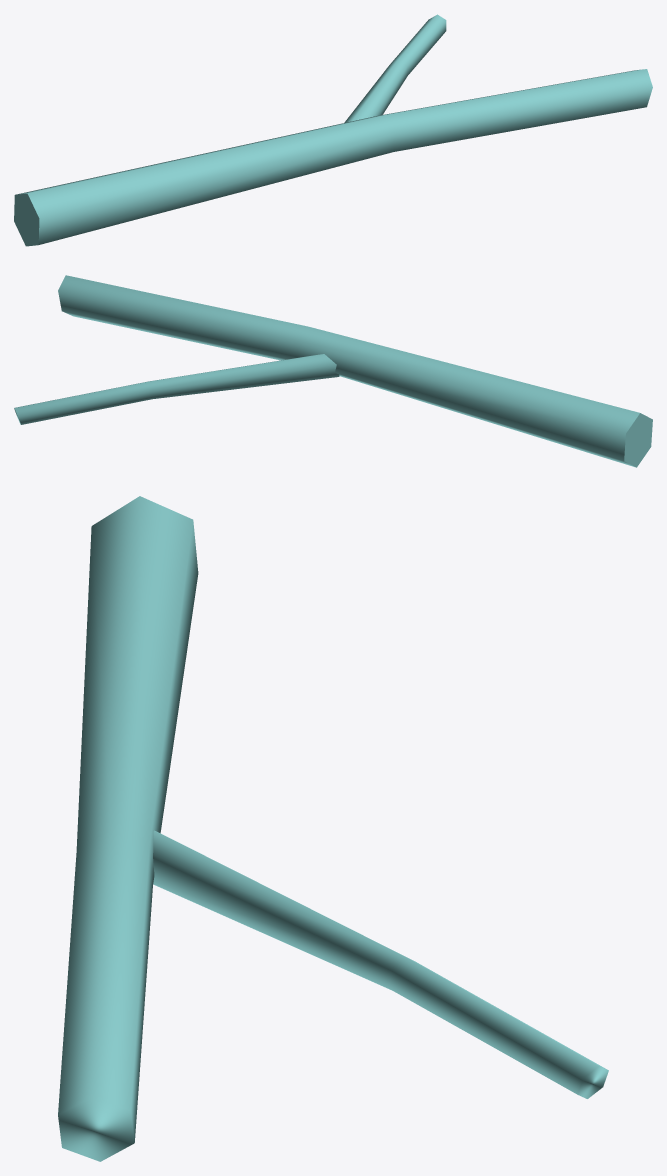
File: Branch2.FBX
3 renders of one model, top to bottom at view 1: azimuth 30°, elevation 25°; view 2: azimuth 150°, elevation 25°; view 3: azimuth 270°, elevation 25°, orthographic. The views are drawn at different scales.
Visible parts, largest first — view 1: brunch_2; view 2: brunch_2; view 3: brunch_2.
Boxes of the visible parts, <box> form: brunch_2: <box>14,14,652,246</box>; brunch_2: <box>14,275,652,467</box>; brunch_2: <box>58,496,608,1161</box>.
Size of the model in its own units: 135 by 11.85 by 54.94.
